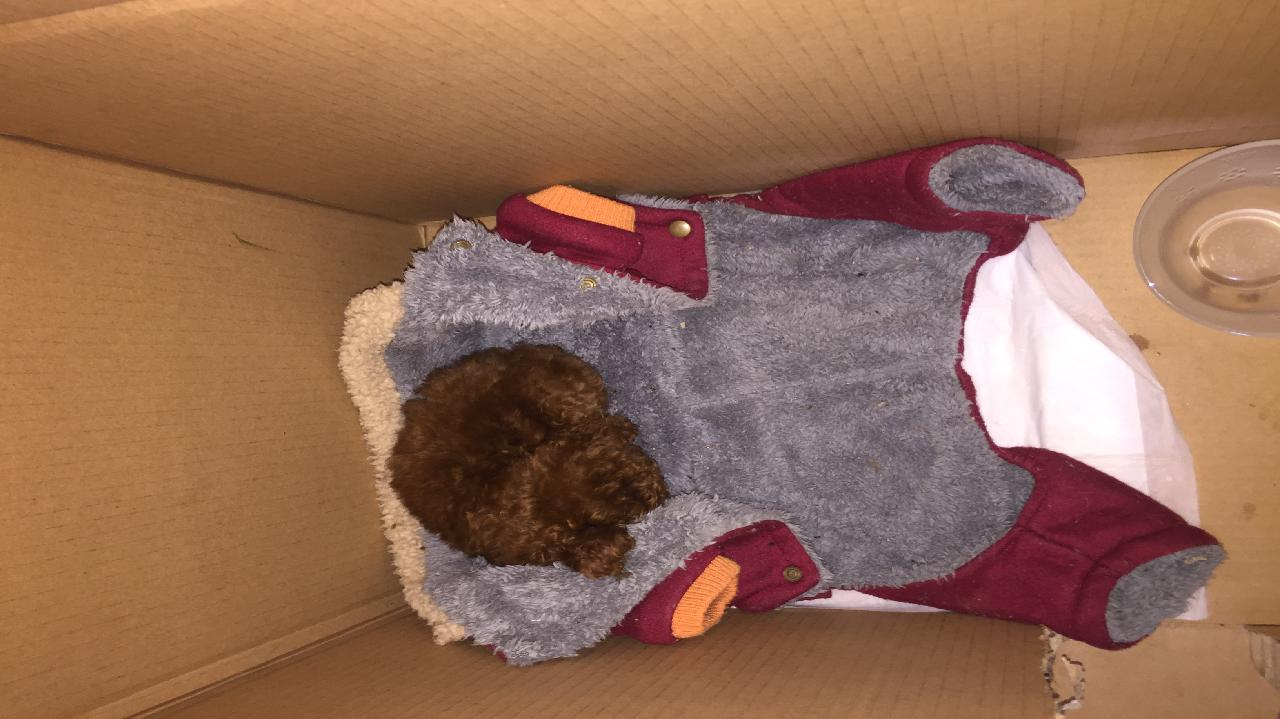coin: (376, 359, 685, 591)
